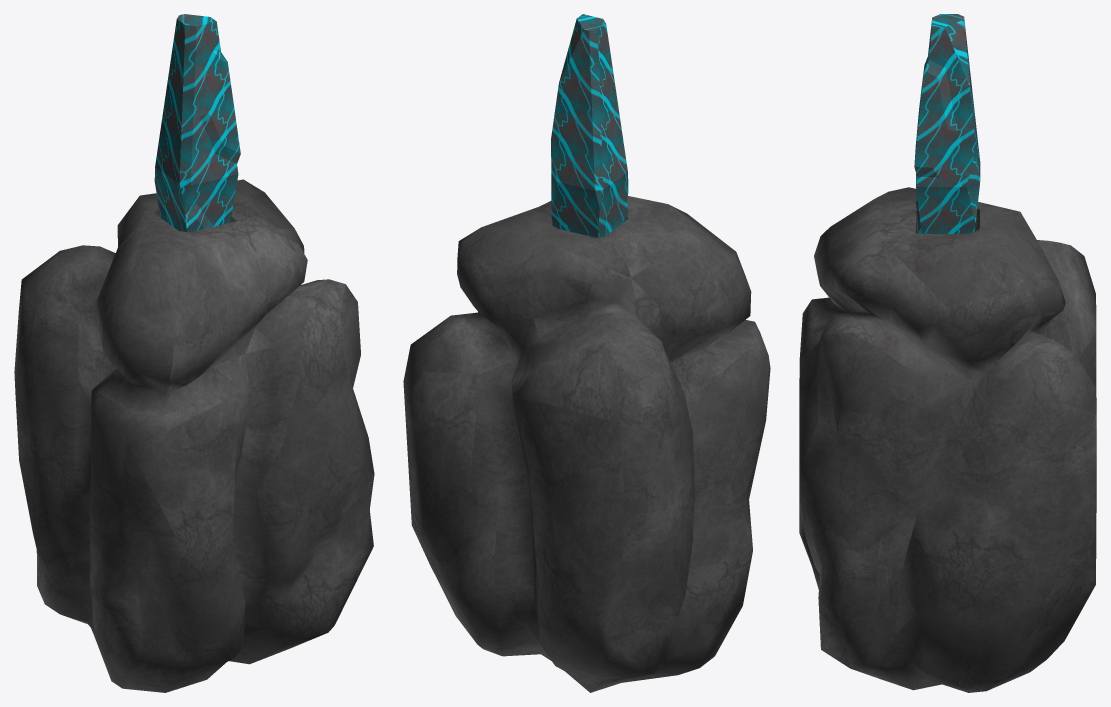
The model's file is Wasser_podest_fertig.glb.
The picture shows the model from 3 angles, left to right: view 1: azimuth 30°, elevation 25°; view 2: azimuth 150°, elevation 25°; view 3: azimuth 270°, elevation 25°; orthographic projection.
Visible parts, largest first — view 1: Wasser_podest, Wasser_kristall; view 2: Wasser_podest, Wasser_kristall; view 3: Wasser_podest, Wasser_kristall.
Boxes of the visible parts, <box> form: Wasser_podest: <box>14,179,374,692</box>; Wasser_kristall: <box>154,14,240,232</box>; Wasser_podest: <box>403,196,770,692</box>; Wasser_kristall: <box>551,14,628,237</box>; Wasser_podest: <box>799,187,1096,692</box>; Wasser_kristall: <box>914,14,980,233</box>.
Bounding box in the file's own units: 1.35 × 3.29 × 1.35.
2 materials, 2 textured.
